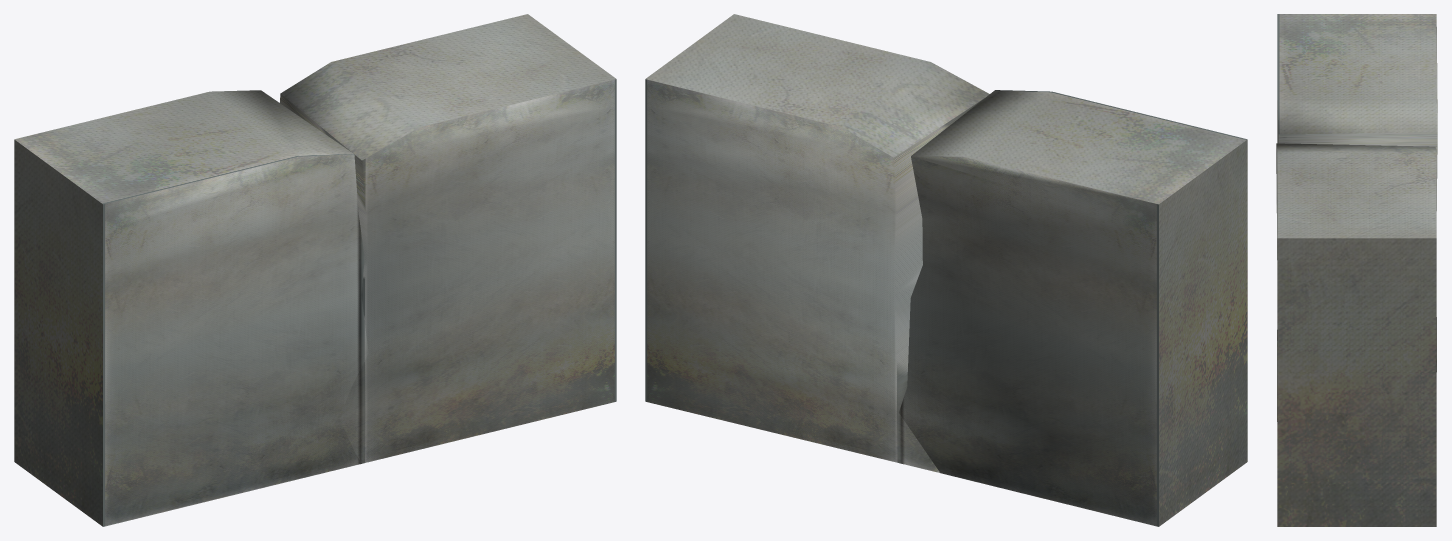
Rendered from CrackedWall1.fbx.
3 views of the same model, side by side, from view 1: azimuth 30°, elevation 25°; view 2: azimuth 150°, elevation 25°; view 3: azimuth 270°, elevation 25° (orthographic). The views are drawn at different scales.
Visible parts, largest first — view 1: pCube1; view 2: pCube1; view 3: pCube1.
Boxes of the visible parts, x1,y1,x2,y2 form: pCube1: (14,14,616,526); pCube1: (645,14,1247,526); pCube1: (1276,14,1437,526).
Size of the model in its own units: 40 by 24 by 12.18.
